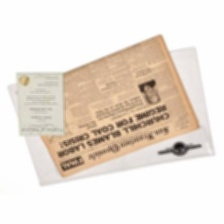news_paper: (25, 33, 203, 179)
